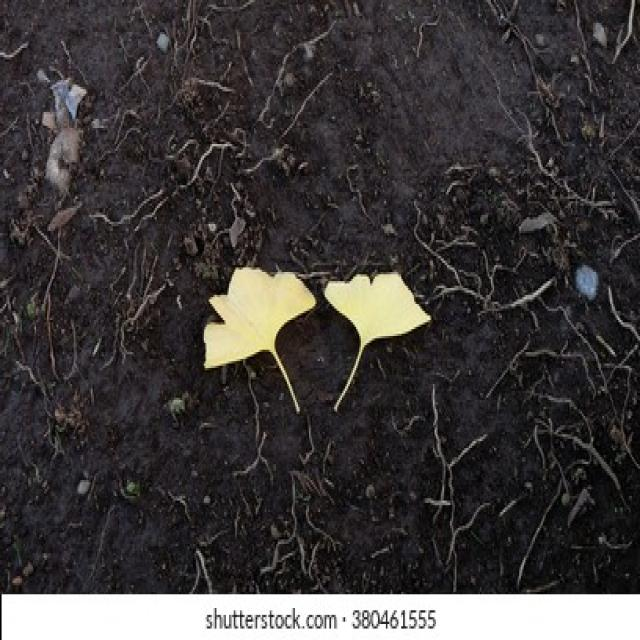Black Soil: (34, 30, 198, 570), (280, 18, 609, 262), (412, 355, 612, 559)
